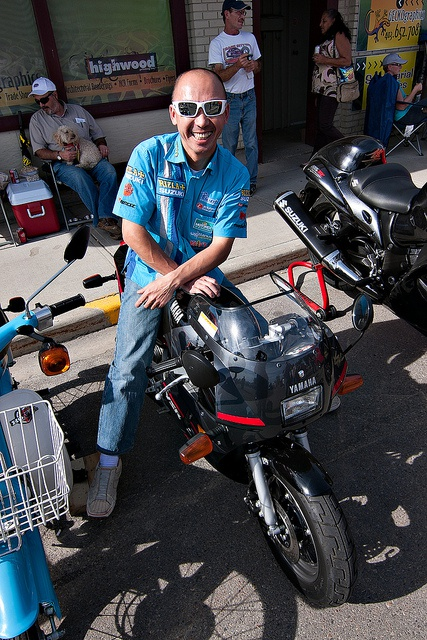non-vehicle: (81, 241, 373, 609), (1, 224, 88, 638), (270, 119, 427, 336)
